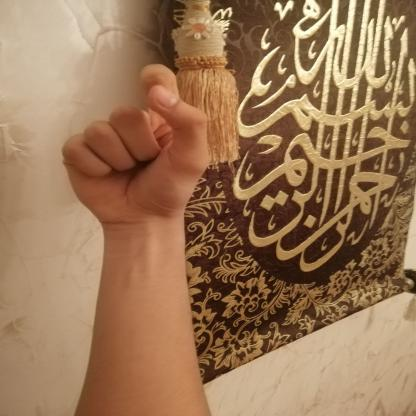FAA: (46, 52, 230, 238)
